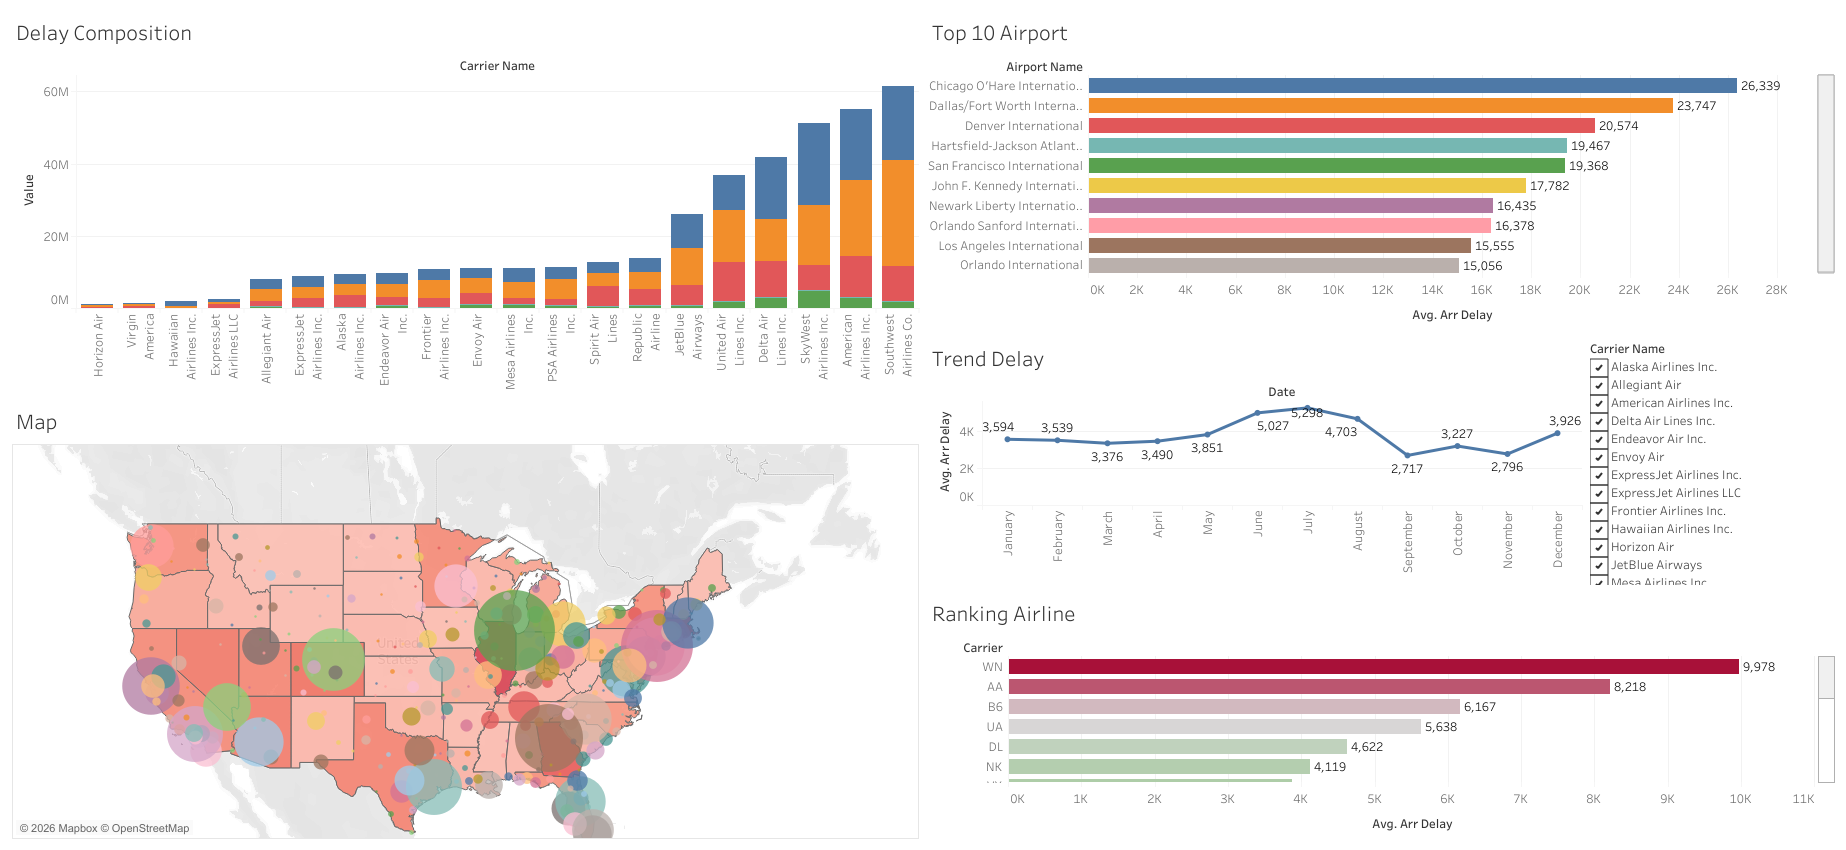

This screenshot's page, from the dashboard's own definition file:
{"tool":"tableau","page":{"name":"Airline Performance Dashboard","canvas":[1000,1000],"units":"permille","ordinal":0},"visuals":[{"type":"worksheet","title":"Delay Composition","mark":"Automatic","cols":["carrier_name"],"box":[4.9,8.6,495.1,457.9]},{"type":"worksheet","title":"Top 10 Airport","mark":"Automatic","rows":["airport_name"],"cols":["arr_delay"],"box":[500,8.6,495.1,383.4]},{"type":"worksheet","title":"Trend Delay","mark":"Automatic","rows":["arr_delay"],"cols":["date"],"box":[500,392,358.1,300.2]},{"type":"filter","title":"Trend Delay","param":"[federated.08qr86r0jg5nqn1fuyv590kqkoxy].[none:carrier_name:nk]","box":[858.1,392,137,300.2]},{"type":"worksheet","title":"Map","mark":"Automatic","box":[4.9,466.5,495.1,524.8]},{"type":"worksheet","title":"Ranking Airline","mark":"Automatic","rows":["carrier"],"cols":["arr_delay"],"box":[500,692.2,495.1,299.1]}]}

Visuals, with their boxes on the dashboard's canvas, which has no fixed pixel size, in thousandths of its width and height (x1, y1, x2, y2). These are canvas units, not pixel positions in the 1846x850 screenshot, which may show the page scaled, cropped or inside an application window:
"Delay Composition" worksheet: [5, 9, 500, 466]
"Top 10 Airport" worksheet: [500, 9, 995, 392]
"Trend Delay" worksheet: [500, 392, 858, 692]
"Trend Delay" filter: [858, 392, 995, 692]
"Map" worksheet: [5, 466, 500, 991]
"Ranking Airline" worksheet: [500, 692, 995, 991]
